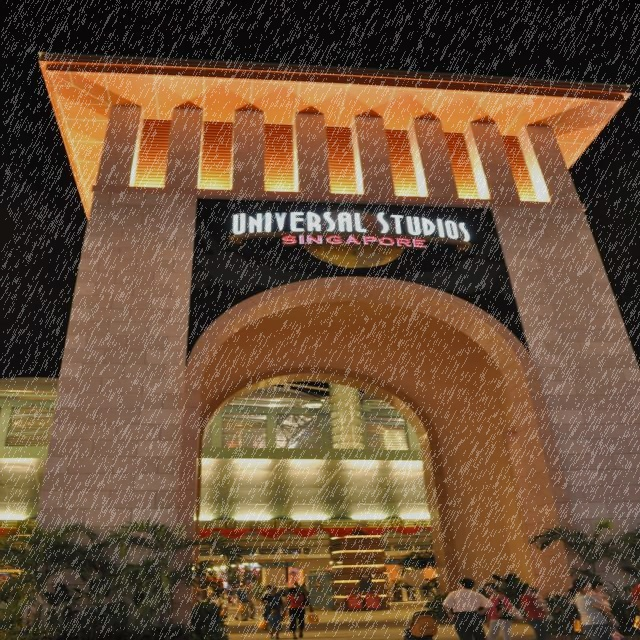pessoa: (442, 576, 494, 640), (568, 578, 618, 640), (495, 572, 539, 640), (481, 582, 525, 640), (186, 565, 232, 613), (282, 586, 316, 640), (233, 583, 257, 621), (260, 585, 284, 623), (264, 608, 284, 640), (586, 580, 614, 602), (630, 579, 640, 612), (2, 570, 20, 584), (259, 582, 272, 598), (392, 581, 400, 600)
